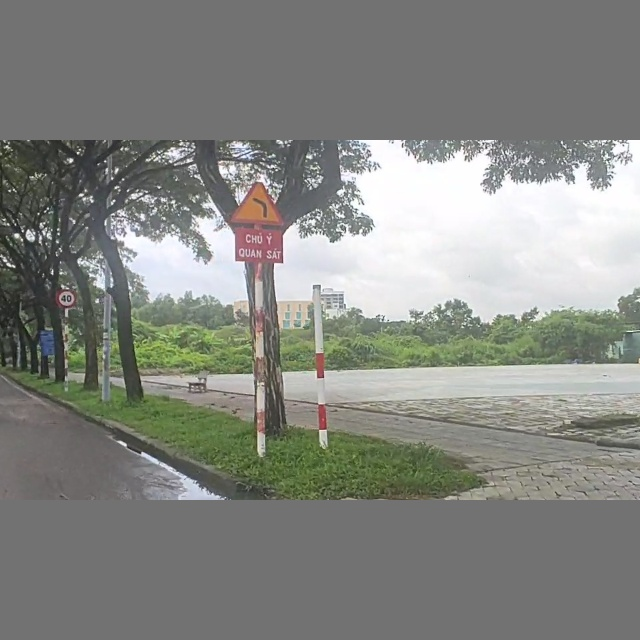P.127*40: (57, 289, 78, 307)
W.201a: (227, 180, 287, 224)
